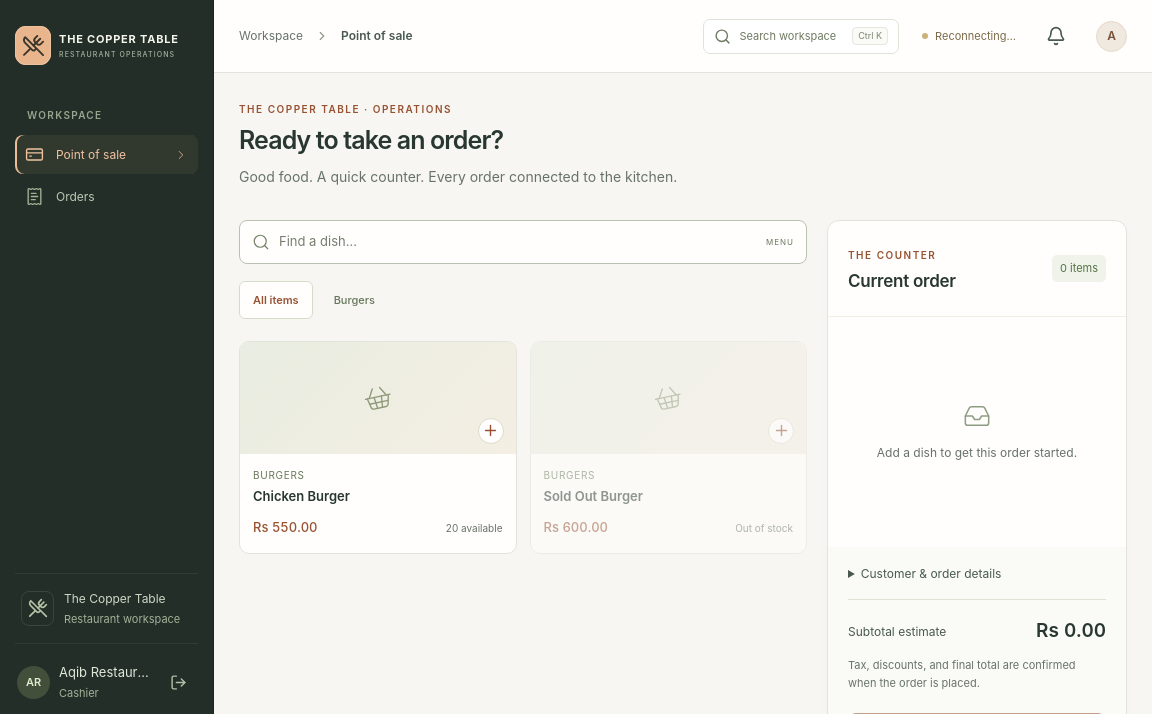
Test: authenticated restaurant workspace › restricts cashier navigation and sends dishes into the current cart
Expected: the heading "Ready to take an order?" is shown, [239, 125, 503, 155]
Expected: the navigation bar named "Main navigation" shows "Point of sale", [15, 135, 198, 174]
Click the button "Burgers Chicken Burger Rs 550.00 20 available" at (378, 447), box [239, 341, 516, 554]
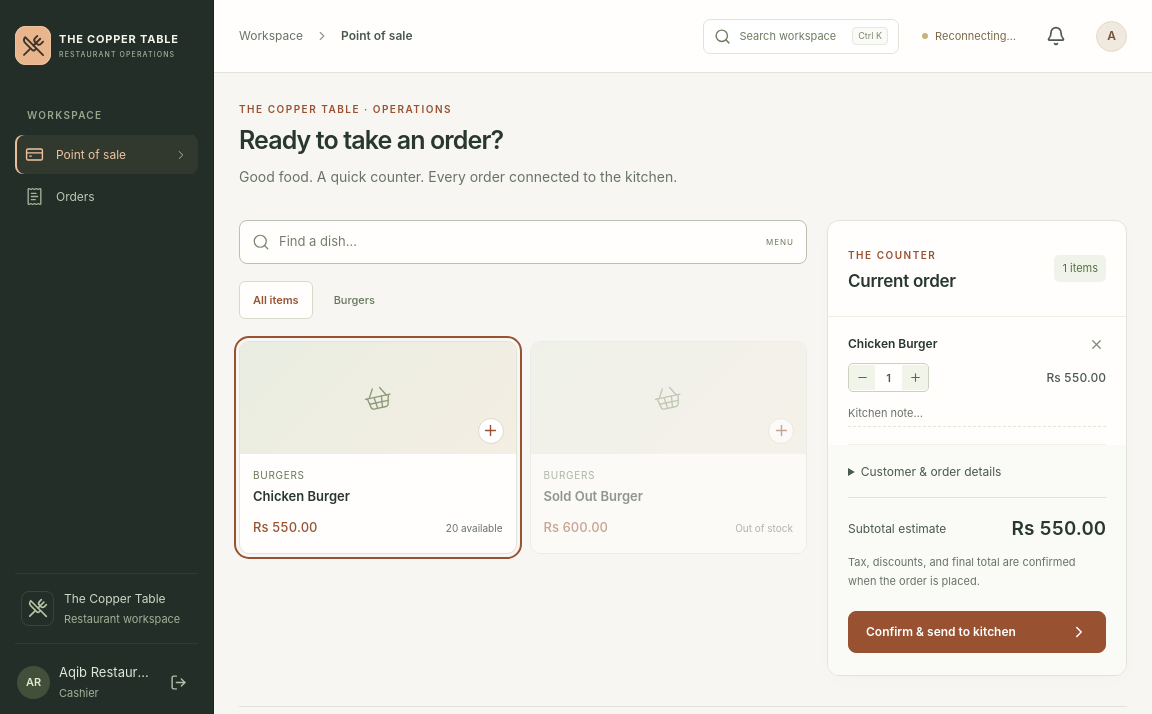
Result: the button named "Increase Chicken Burger" is shown at [902, 365, 928, 390]
Result: the button "Confirm & send to kitchen" is enabled at [848, 611, 1106, 653]
